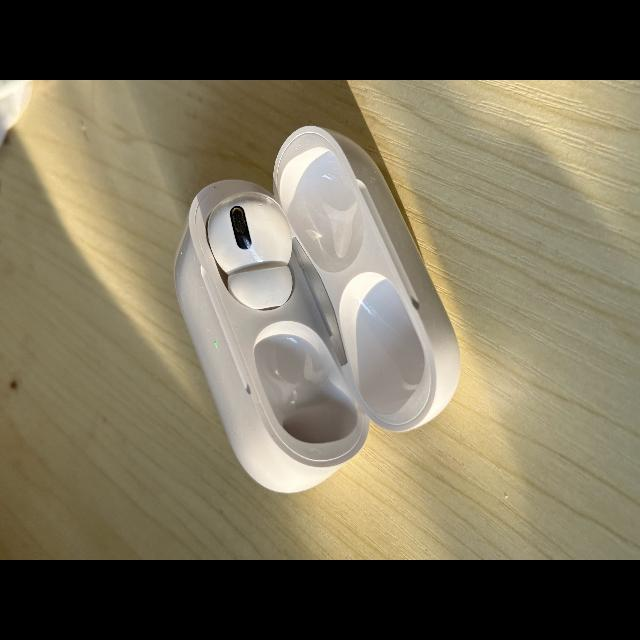AirPods Pro: (175, 125, 461, 493)
